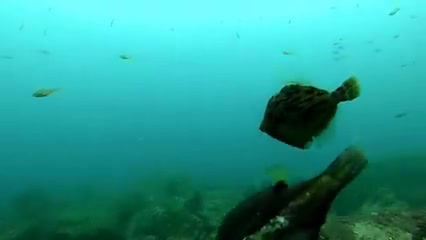kawahagi: (257, 75, 365, 152)
smallfish: (29, 82, 68, 103)
